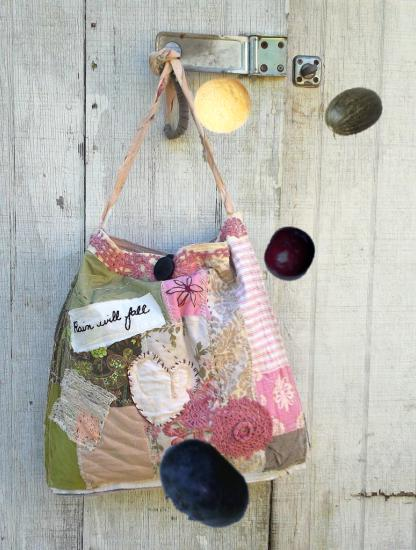Blueberry: (152, 435, 254, 537)
Cantaloupe: (193, 77, 253, 137)
Melon: (324, 83, 384, 143)
Plum: (262, 226, 318, 282)
